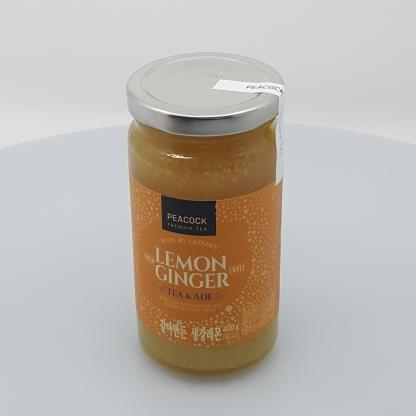--------------400G: (126, 52, 284, 377)
